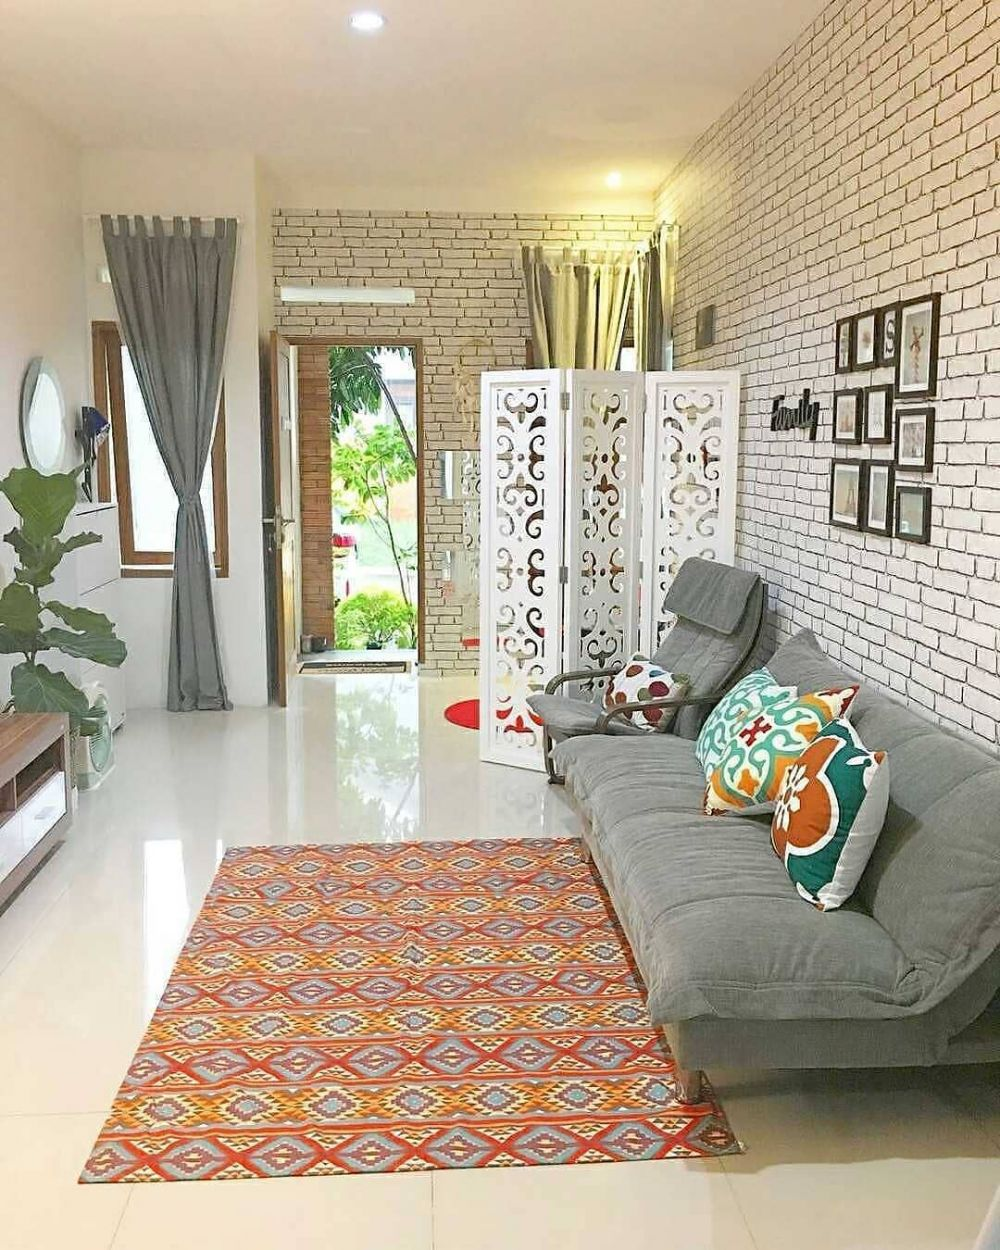kursi: (514, 560, 744, 749)
sova: (534, 624, 1000, 1087)
tanaman: (3, 465, 118, 749)
